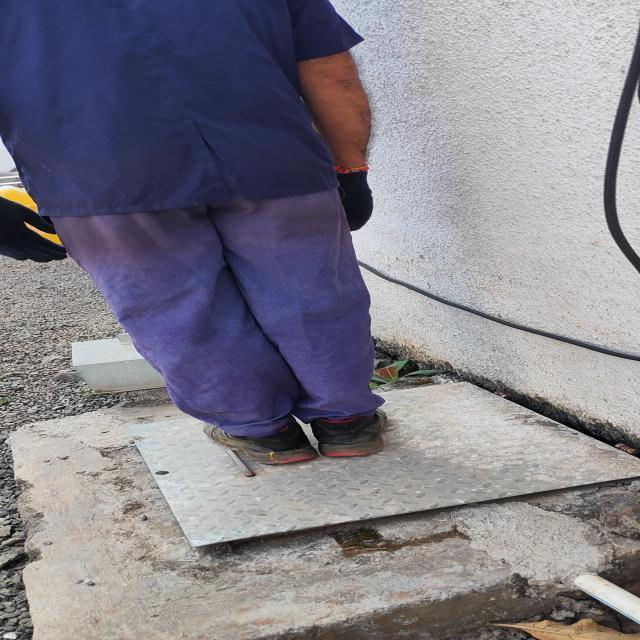gloved_hand: (1, 185, 127, 285), (317, 154, 404, 236)
